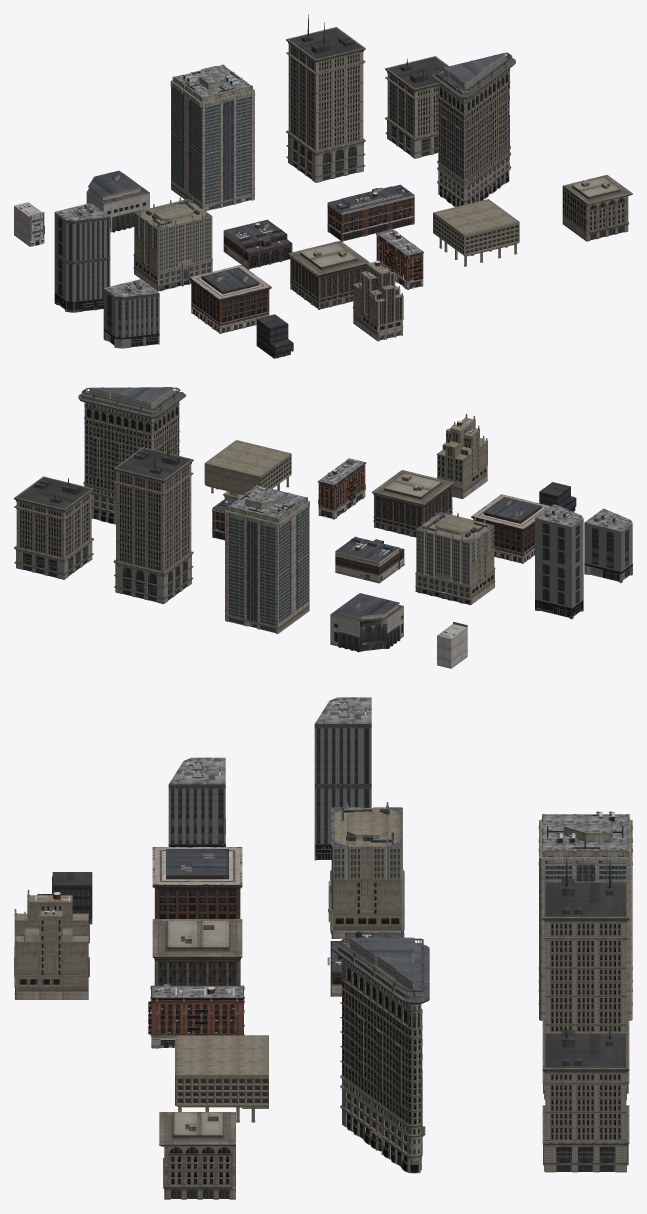
3 views of the same model, one above another, from view 1: azimuth 30°, elevation 25°; view 2: azimuth 150°, elevation 25°; view 3: azimuth 270°, elevation 25° (orthographic). The views are drawn at different scales.
Parts seen in each view (by area): view 1: Downtown_ModernOffice_5_Downtown_Facade_FLR_4_0, Downtown_Flatiron_1_Downtown_Facade_FLR_3_0, Downtown_ModernOffice_4_Downtown_International_Side_1_0, Downtown_Residential_3, Downtown_ClassicOffice_1_Downtown_Facade_FLR_1_0, Downtown_Residential_4, Downtown_ModernOffice_4_Downtown_Concrete_FLR_1_0, Downtown_ModernOffice_1_B_Downtown_Firstfloortrim_FLR_1_0, Downtown_Residential_2_Downtown_Facade_FLR_3_0, Downtown_ModernOffice_5_B_Downtown_Facade_FLR_4_0, Downtown_Brutal_1_Downtown_Concrete_FLR_1_0, Downtown_BrownstoneOffice_1_Downtown_Facade_FLR_2_0 (+21 smaller); view 2: Downtown_ModernOffice_5_Downtown_Facade_FLR_4_0, Downtown_ModernOffice_4_Downtown_International_Side_1_0, Downtown_Flatiron_1_Downtown_Facade_FLR_3_0, Downtown_ModernOffice_5_B_Downtown_Facade_FLR_4_0, Downtown_ClassicOffice_1_Downtown_Facade_FLR_1_0, Downtown_Residential_4, Downtown_ModernOffice_4_Downtown_Concrete_FLR_1_0, Downtown_Brutal_1_Downtown_Concrete_FLR_1_0, Downtown_ModernOffice_1_B_Downtown_Firstfloortrim_FLR_1_0, Downtown_Residential_3, Downtown_ModernOffice_5_Downtown_Modern_Firstfloor_FLR_1_0, Downtown_Mall_1_Downtown_Facade_FLR_2_0 (+18 smaller); view 3: Downtown_Flatiron_1_Downtown_Facade_FLR_3_0, Downtown_ModernOffice_5_Downtown_Facade_FLR_4_0, Downtown_ModernOffice_5_B_Downtown_Facade_FLR_4_0, Downtown_ArtDeco_1_Downtown_Concrete_FLR_1_0, Downtown_Residential_3, Downtown_Brutal_1_Downtown_Concrete_FLR_1_0, Downtown_Residential_2_Downtown_Facade_FLR_3_0, Downtown_ClassicOffice_1_Downtown_Concrete_FLR_1_0, Downtown_Residential_4, Downtown_BrownstoneOffice_2, Downtown_Flatiron_1_Downtown_Facade_FLR_1_0, Downtown_ModernOffice_4_Downtown_Concrete_FLR_1_0 (+15 smaller).
Part boxes in pixels (box(x1,y1,x2,y2)): Downtown_ModernOffice_5_Downtown_Facade_FLR_4_0: box(286, 27, 365, 182); Downtown_Flatiron_1_Downtown_Facade_FLR_3_0: box(432, 52, 515, 206); Downtown_ModernOffice_4_Downtown_International_Side_1_0: box(171, 86, 251, 205); Downtown_Residential_3: box(189, 265, 271, 333); Downtown_ClassicOffice_1_Downtown_Facade_FLR_1_0: box(134, 199, 212, 291); Downtown_Residential_4: box(288, 240, 369, 309); Downtown_ModernOffice_4_Downtown_Concrete_FLR_1_0: box(170, 64, 255, 210); Downtown_ModernOffice_1_B_Downtown_Firstfloortrim_FLR_1_0: box(54, 204, 110, 312); Downtown_Residential_2_Downtown_Facade_FLR_3_0: box(562, 175, 632, 241); Downtown_ModernOffice_5_B_Downtown_Facade_FLR_4_0: box(385, 56, 448, 158); Downtown_Brutal_1_Downtown_Concrete_FLR_1_0: box(433, 199, 519, 266); Downtown_BrownstoneOffice_1_Downtown_Facade_FLR_2_0: box(327, 184, 414, 241); Downtown_ModernOffice_5_Downtown_Facade_FLR_4_0: box(113, 447, 193, 604); Downtown_ModernOffice_4_Downtown_International_Side_1_0: box(228, 507, 308, 626); Downtown_Flatiron_1_Downtown_Facade_FLR_3_0: box(78, 387, 186, 524); Downtown_ModernOffice_5_B_Downtown_Facade_FLR_4_0: box(14, 476, 93, 579); Downtown_ClassicOffice_1_Downtown_Facade_FLR_1_0: box(415, 512, 494, 605); Downtown_Residential_4: box(371, 470, 454, 537); Downtown_ModernOffice_4_Downtown_Concrete_FLR_1_0: box(224, 485, 309, 633); Downtown_Brutal_1_Downtown_Concrete_FLR_1_0: box(204, 440, 291, 499); Downtown_ModernOffice_1_B_Downtown_Firstfloortrim_FLR_1_0: box(535, 513, 583, 619); Downtown_Residential_3: box(471, 494, 550, 563); Downtown_ModernOffice_5_Downtown_Modern_Firstfloor_FLR_1_0: box(117, 433, 190, 602); Downtown_Mall_1_Downtown_Facade_FLR_2_0: box(335, 536, 404, 583); Downtown_Flatiron_1_Downtown_Facade_FLR_3_0: box(331, 938, 429, 1173); Downtown_ModernOffice_5_Downtown_Facade_FLR_4_0: box(542, 881, 629, 1100); Downtown_ModernOffice_5_B_Downtown_Facade_FLR_4_0: box(542, 1032, 629, 1172); Downtown_ArtDeco_1_Downtown_Concrete_FLR_1_0: box(14, 894, 88, 999); Downtown_Residential_3: box(152, 847, 242, 918); Downtown_Brutal_1_Downtown_Concrete_FLR_1_0: box(175, 1035, 268, 1122); Downtown_Residential_2_Downtown_Facade_FLR_3_0: box(159, 1112, 235, 1199); Downtown_ClassicOffice_1_Downtown_Concrete_FLR_1_0: box(333, 807, 401, 938); Downtown_Residential_4: box(152, 919, 242, 985); Downtown_BrownstoneOffice_2: box(148, 984, 244, 1048); Downtown_Flatiron_1_Downtown_Facade_FLR_1_0: box(331, 937, 429, 1173); Downtown_ModernOffice_4_Downtown_Concrete_FLR_1_0: box(538, 814, 632, 1020).
Bounding box in the file's own units: 359 × 103 × 255.
15 materials, 15 textured.
